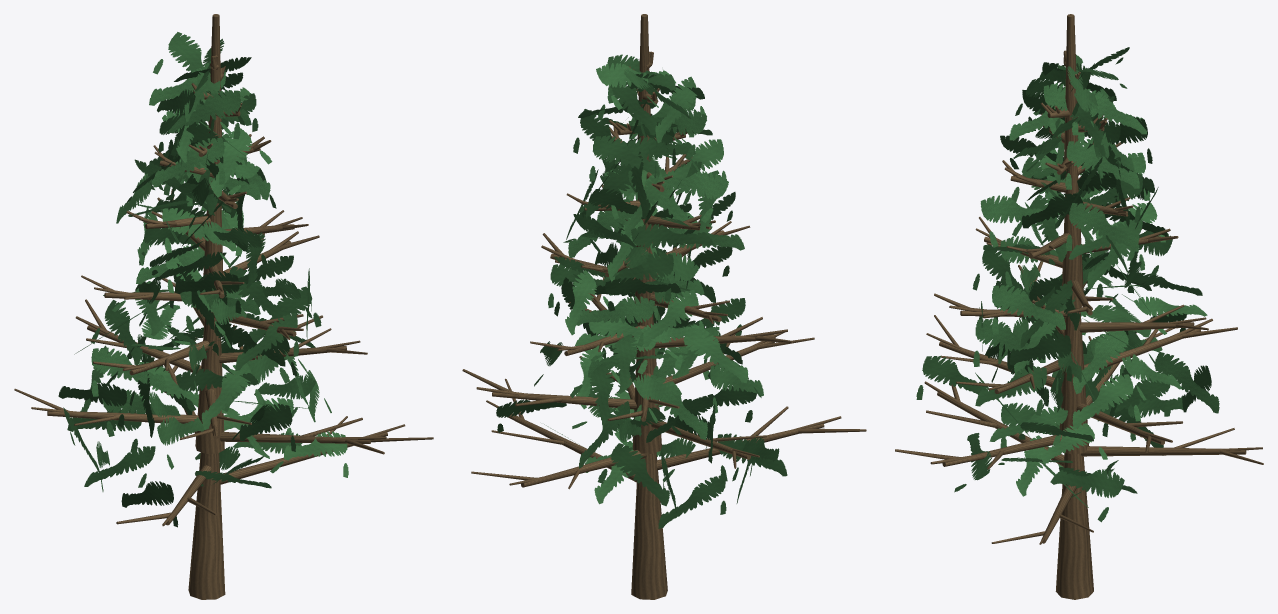
The picture shows the model from 3 angles, left to right: view 1: azimuth 30°, elevation 25°; view 2: azimuth 150°, elevation 25°; view 3: azimuth 270°, elevation 25°; orthographic projection.
Parts seen in each view (by area): view 1: pine-needle, pine-bark; view 2: pine-needle, pine-bark; view 3: pine-needle, pine-bark.
Part boxes in pixels (x1,y1,x2,y2): pine-needle: [58, 32, 348, 527]; pine-bark: [14, 14, 433, 599]; pine-needle: [496, 54, 787, 528]; pine-bark: [462, 14, 866, 599]; pine-needle: [916, 47, 1219, 522]; pine-bark: [895, 14, 1263, 599].
Size of the model in its own units: 6.17 by 10.01 by 5.77.
2 materials, 2 textured.
